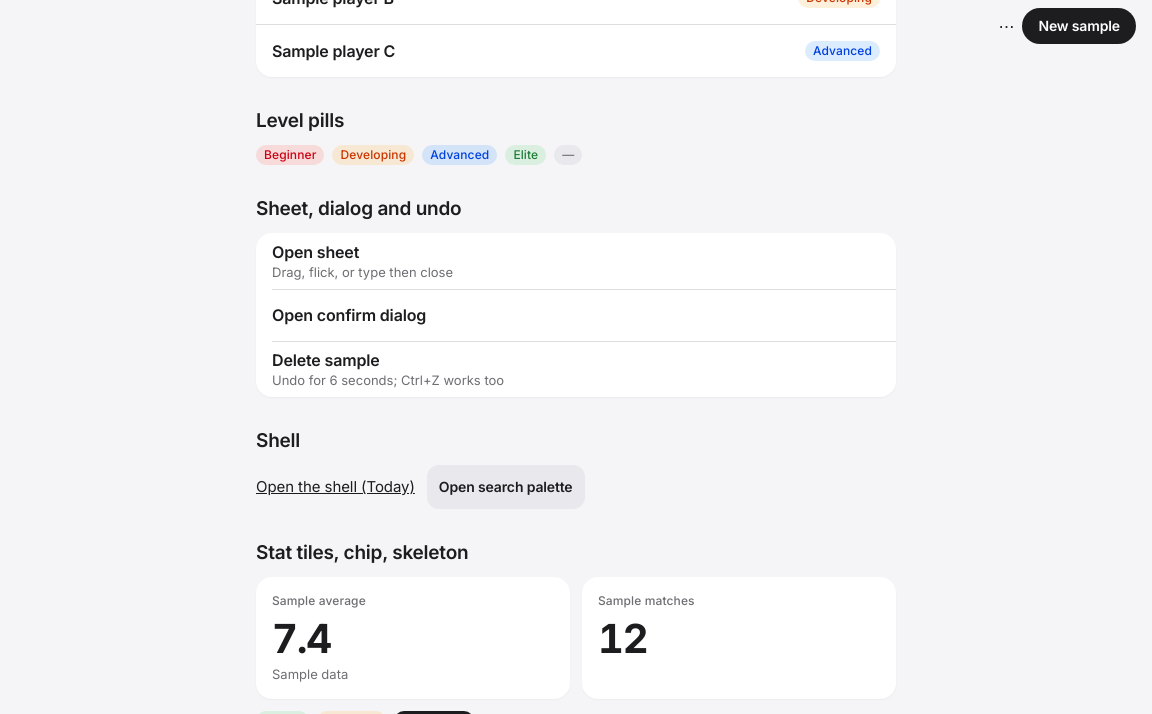
Test: UiGallery › shows an Undo button after Delete sample
The image size is (1152, 714).
(page scrolled)
Click the text "Delete sample" at (326, 360), box 272,350 -> 380,370
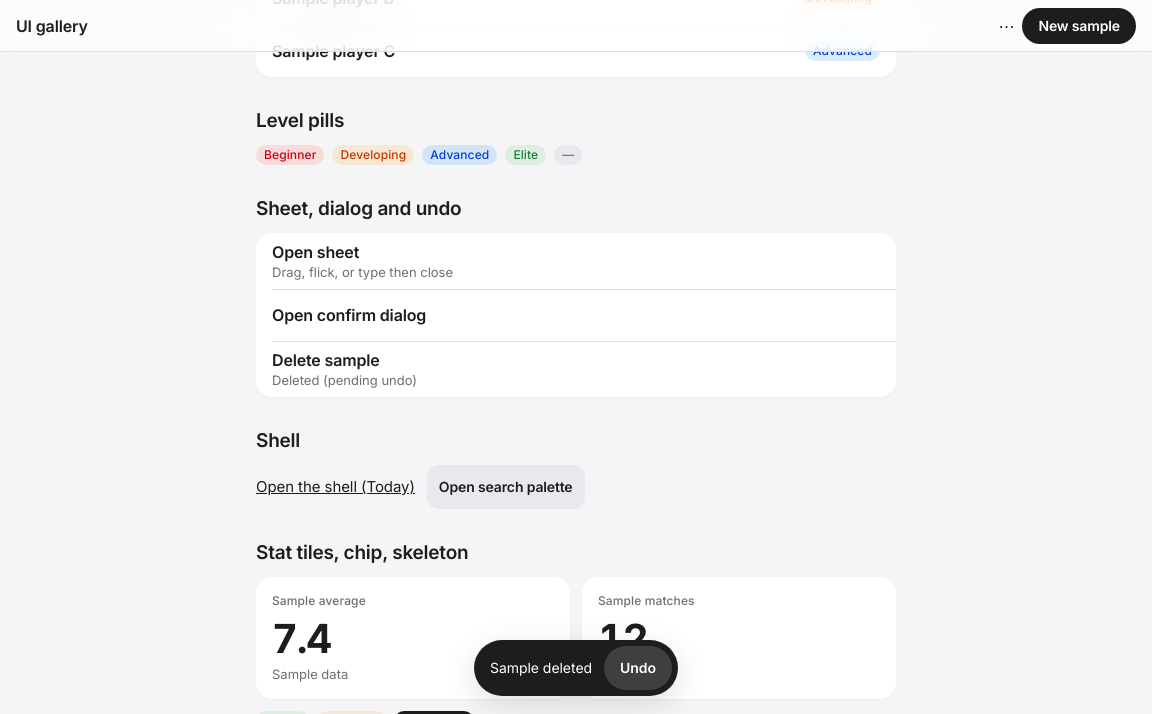
Check: the button "Undo" is shown, box 604,646 -> 672,690
